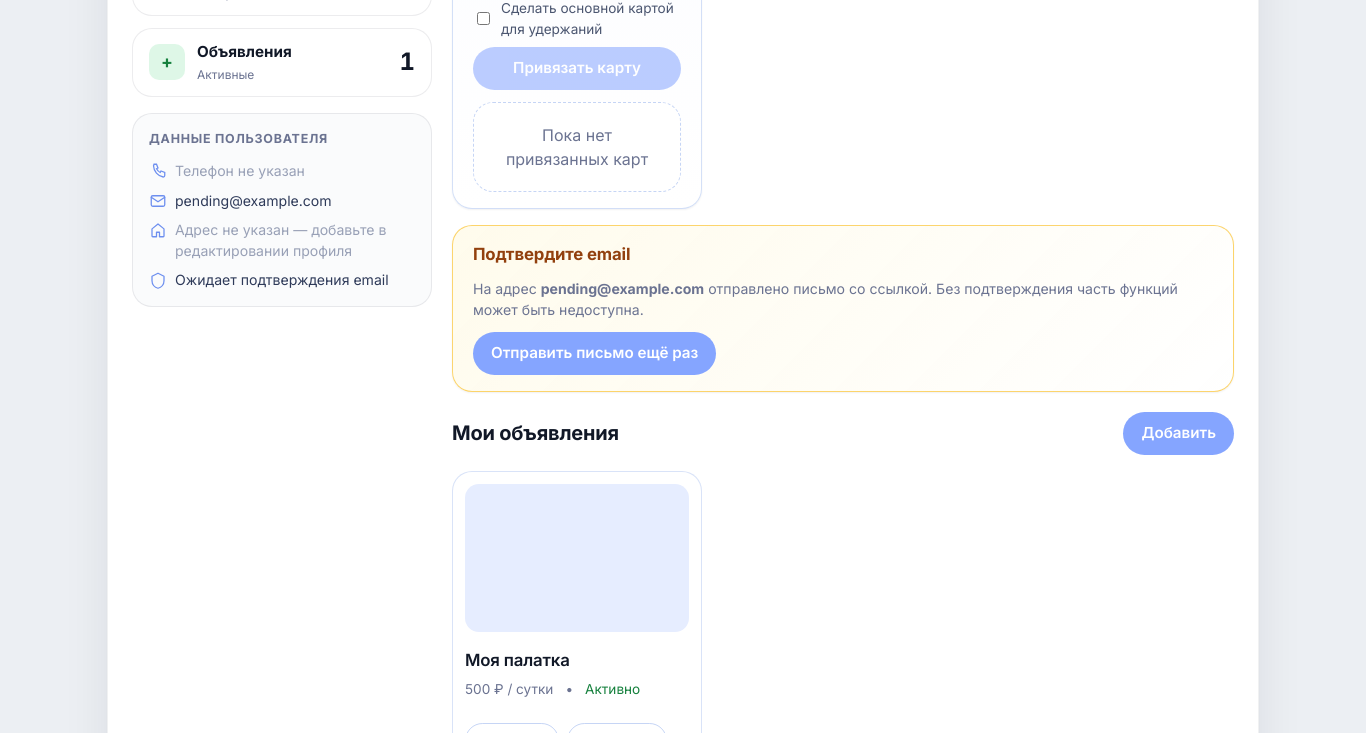
Test: ProfilePage › resends confirmation email when button clicked
The image size is (1366, 733).
(page scrolled)
Click the button "Отправить письмо ещё раз" at {"x": 595, "y": 354}, box [473,332,716,375]
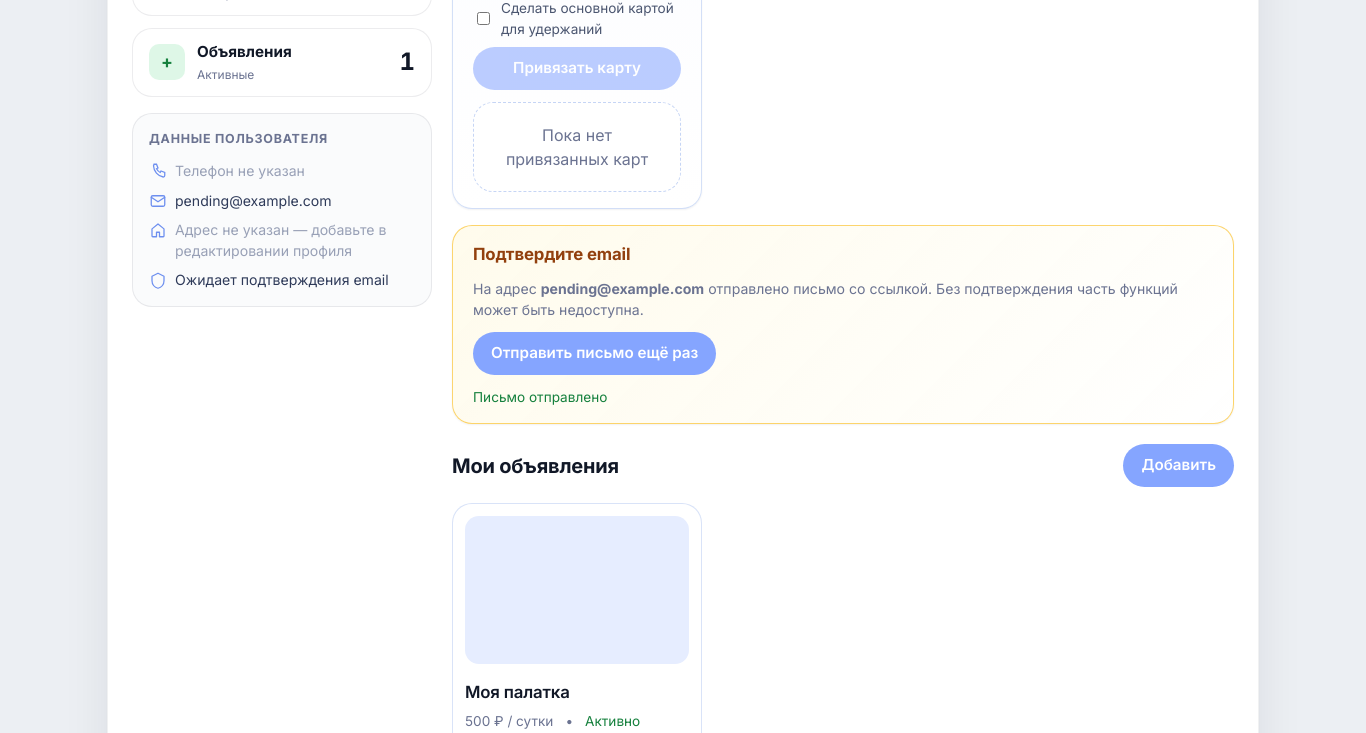
Expected: the text "Письмо отправлено" is shown, [473,389,607,405]
